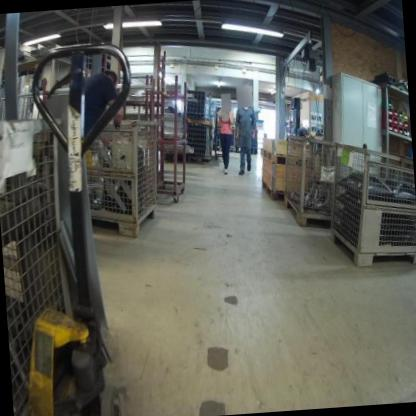pallet: (261, 144, 313, 171), (261, 177, 286, 203)
pallet_truck: (0, 25, 162, 416)
stillage: (0, 103, 89, 416), (319, 131, 416, 273), (87, 117, 165, 241), (277, 129, 348, 232)
